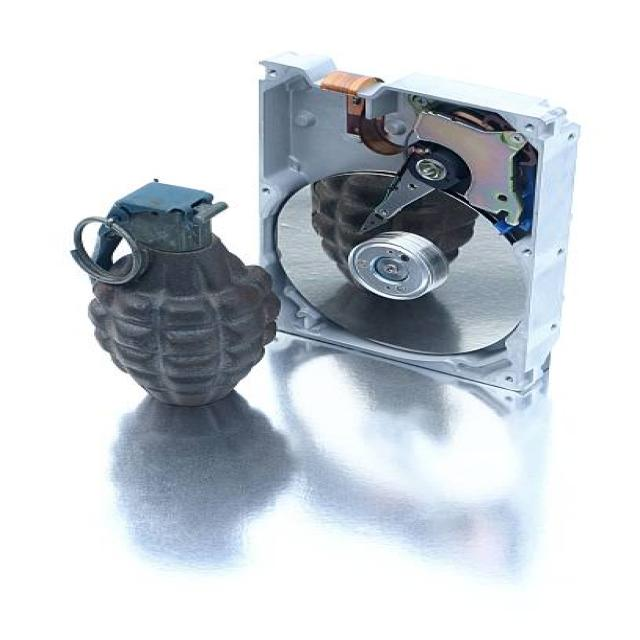grenade: (57, 175, 288, 412)
